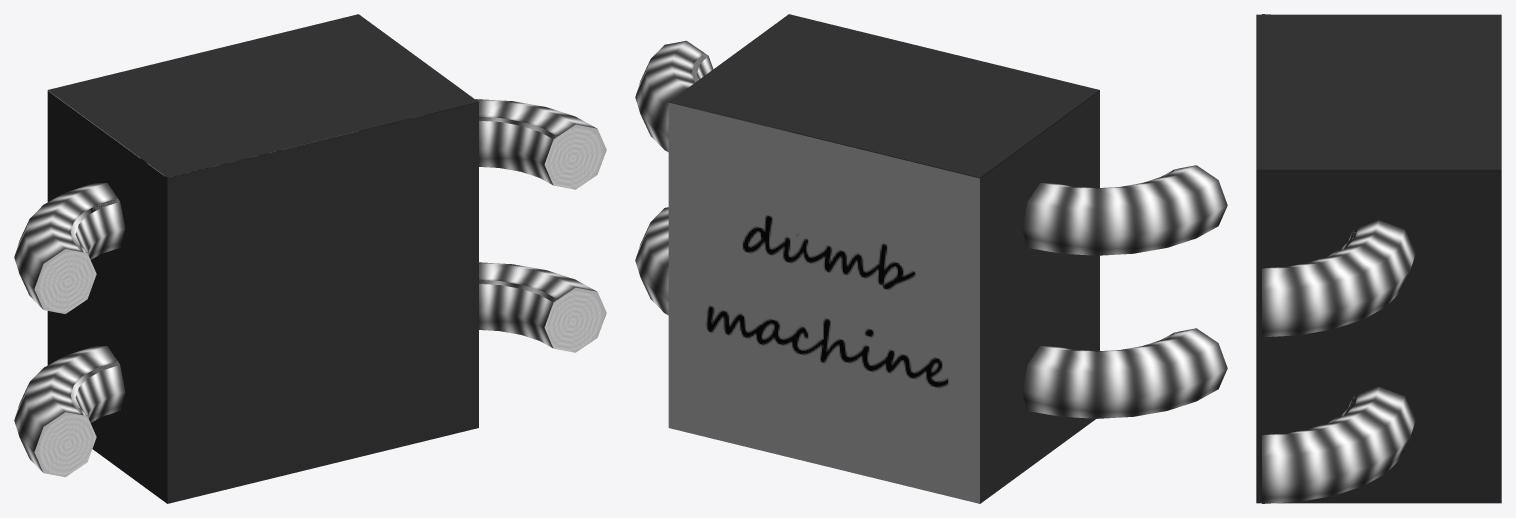
File: generic.DAE
The picture shows the model from 3 angles, left to right: view 1: azimuth 30°, elevation 25°; view 2: azimuth 150°, elevation 25°; view 3: azimuth 270°, elevation 25°; orthographic projection. The views are drawn at different scales.
Visible parts, largest first — view 1: body; view 2: body; view 3: body.
Part boxes in pixels (x1,y1,x2,y2): body: [14, 14, 606, 503]; body: [635, 14, 1227, 503]; body: [1256, 14, 1501, 503].
Size of what is drawn, in the model's own units: 0.551 by 0.2 by 0.3.
